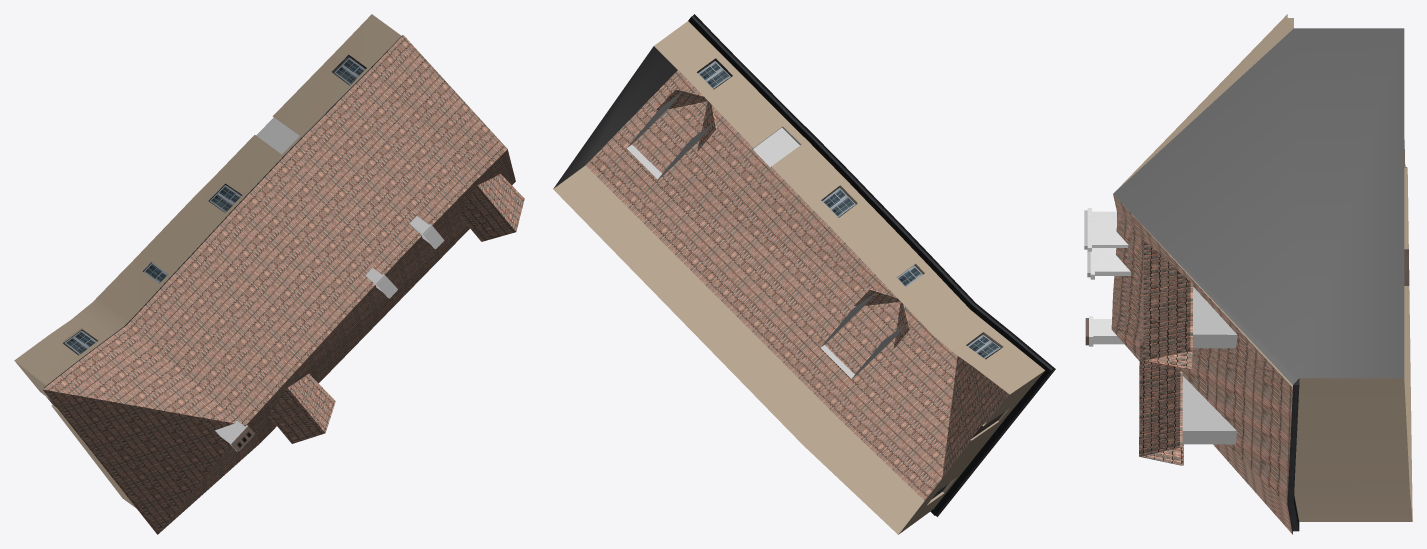
The model's file is Toom-Ryytli-2.obj.
3 views of the same model, side by side, from view 1: azimuth 30°, elevation 25°; view 2: azimuth 150°, elevation 25°; view 3: azimuth 270°, elevation 25° (orthographic). The views are drawn at different scales.
Parts seen in each view (by area): view 1: Toom_Ryytli_2; view 2: Toom_Ryytli_2; view 3: Toom_Ryytli_2.
Boxes of the visible parts, left/top/right/bottom form: Toom_Ryytli_2: left=14, top=14, right=524, bottom=534; Toom_Ryytli_2: left=553, top=14, right=1055, bottom=534; Toom_Ryytli_2: left=1084, top=14, right=1412, bottom=534.
Bounding box in the file's own units: 24.97 × 22.19 × 9.26.
